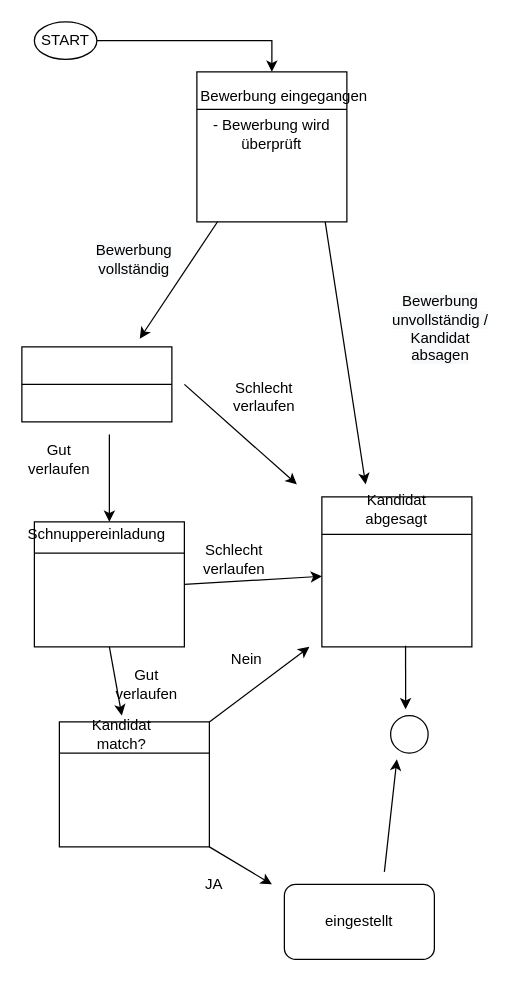
Image size: 519x981. Some labels were removed from this diagram. Here are the shapes that lost their labels. From the top down, the box of each, then its label:
(21, 346, 172, 422): Interview
(389, 714, 428, 753): ENDE
